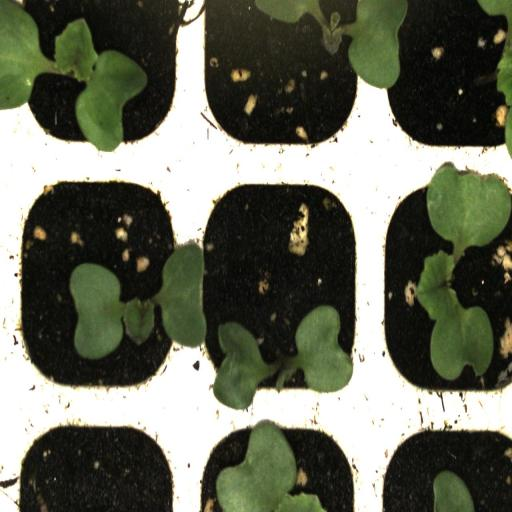Folha: (215, 422, 327, 512), (347, 0, 408, 90), (433, 470, 475, 512)
Germinacao: (10, 166, 195, 412), (194, 165, 374, 412), (375, 166, 512, 404), (13, 0, 190, 160)
